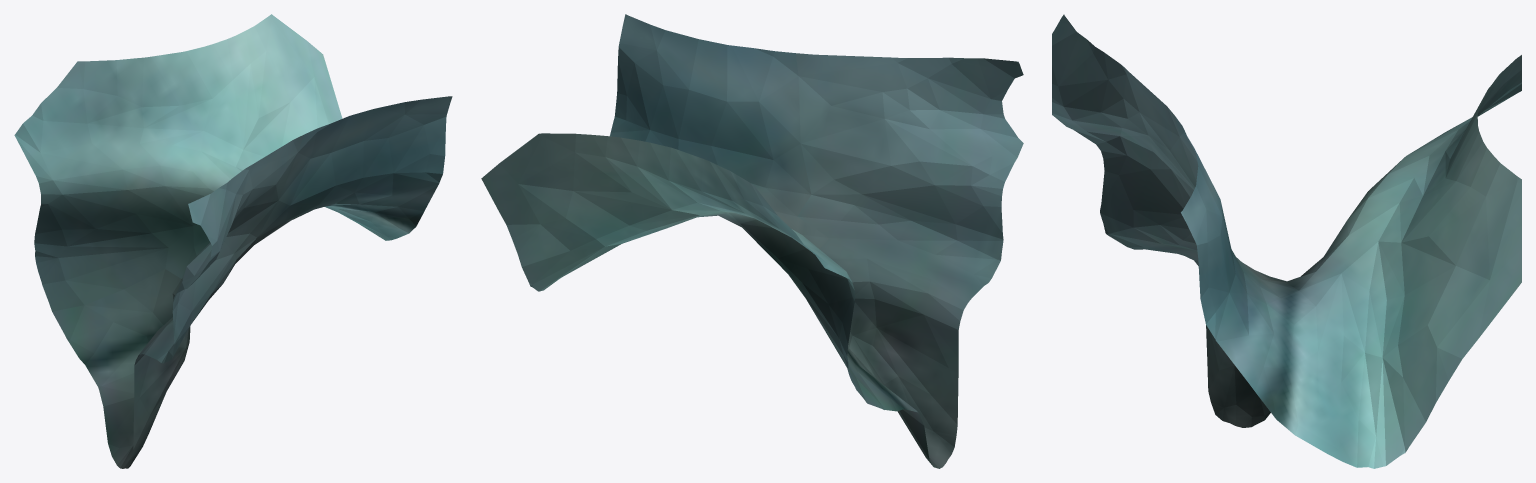
3 renders of one model, left to right at view 1: azimuth 30°, elevation 25°; view 2: azimuth 150°, elevation 25°; view 3: azimuth 270°, elevation 25°, orthographic. The views are drawn at different scales.
Visible parts, largest first — view 1: 091_W_Aya_100K_01; view 2: 091_W_Aya_100K_01; view 3: 091_W_Aya_100K_01.
Boxes of the visible parts, bbox=[...] form: 091_W_Aya_100K_01: bbox=[14, 14, 452, 468]; 091_W_Aya_100K_01: bbox=[481, 14, 1023, 468]; 091_W_Aya_100K_01: bbox=[1052, 14, 1521, 468].
Bounding box in the file's own units: 42.87 × 41.69 × 42.87.
1 material, 1 textured.
